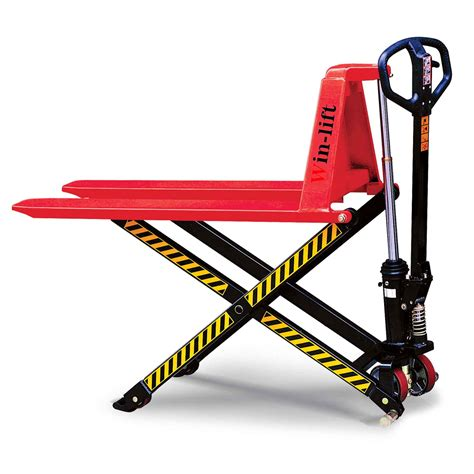Scissor Lift: (27, 1, 447, 420)
